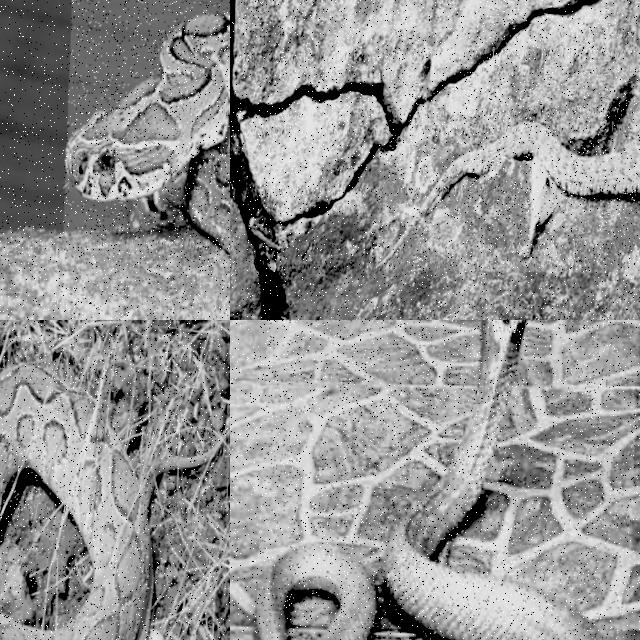Daboia siamensis: (0, 365, 151, 639), (66, 14, 229, 254)
Naja kaouthia: (383, 320, 602, 639)
Ovophis monticola: (376, 122, 639, 270)
snake: (383, 320, 602, 639), (0, 365, 151, 639), (66, 14, 229, 254), (376, 122, 639, 270)
